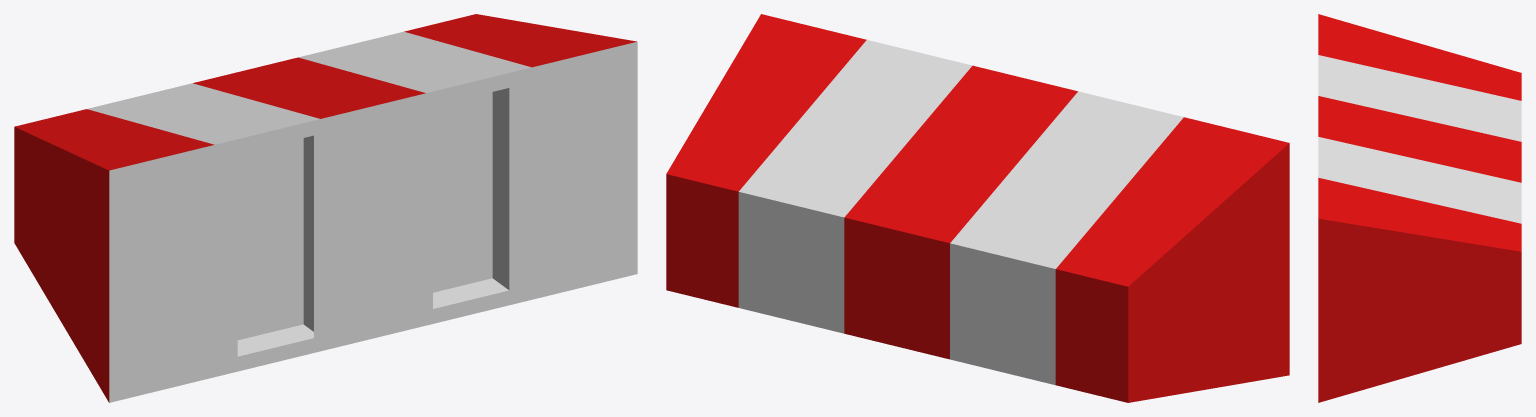
File: bariyer.fbx
3 views of the same model, side by side, from view 1: azimuth 30°, elevation 25°; view 2: azimuth 150°, elevation 25°; view 3: azimuth 270°, elevation 25° (orthographic). The views are drawn at different scales.
Parts seen in each view (by area): view 1: Cube; view 2: Cube; view 3: Cube.
Boxes of the visible parts, x1=… form: Cube: x1=14, y1=14, x2=637, y2=402; Cube: x1=666, y1=14, x2=1289, y2=402; Cube: x1=1318, y1=14, x2=1521, y2=402.
Size of the model in its own units: 181 by 76.06 by 76.06.
